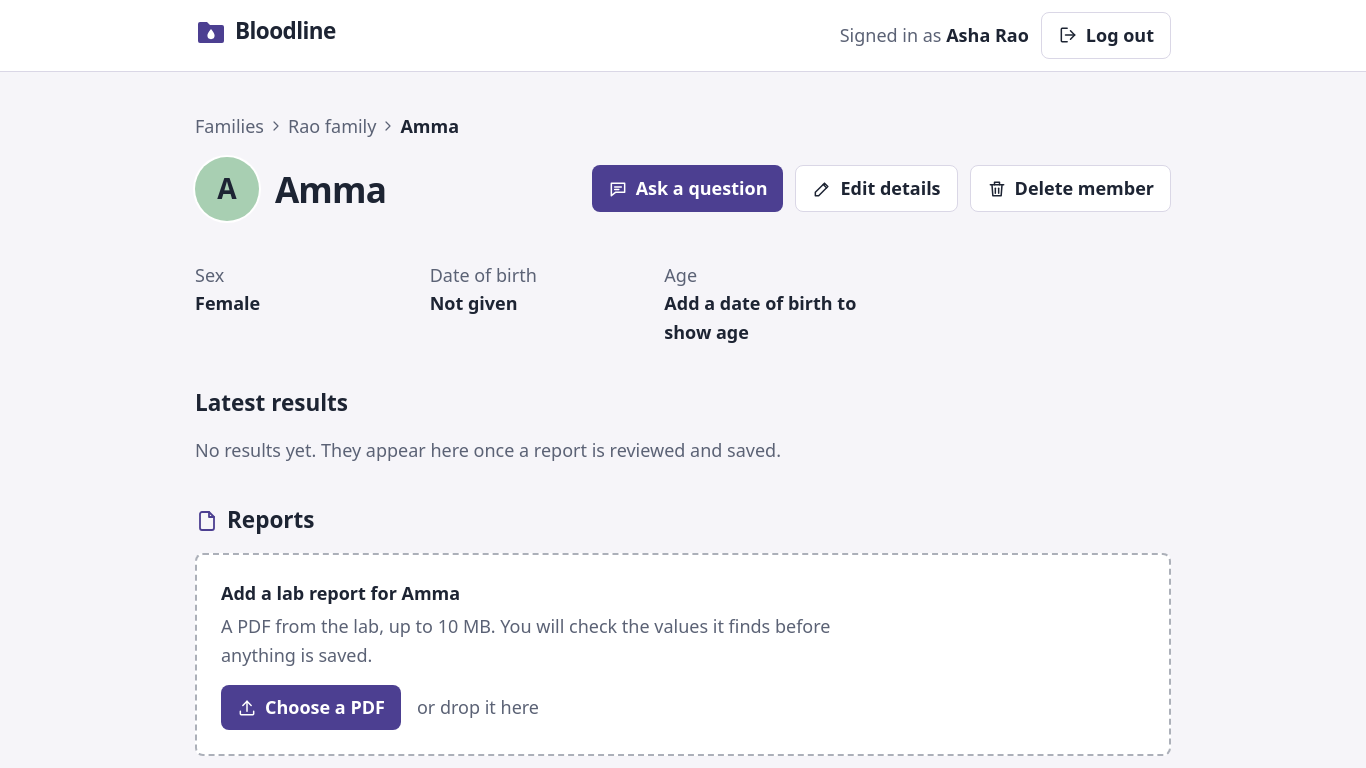
it: asking about one member › opens from the member page and says what the AI is told
Click the link "Ask a question": point(688, 189) [592,165,783,212]
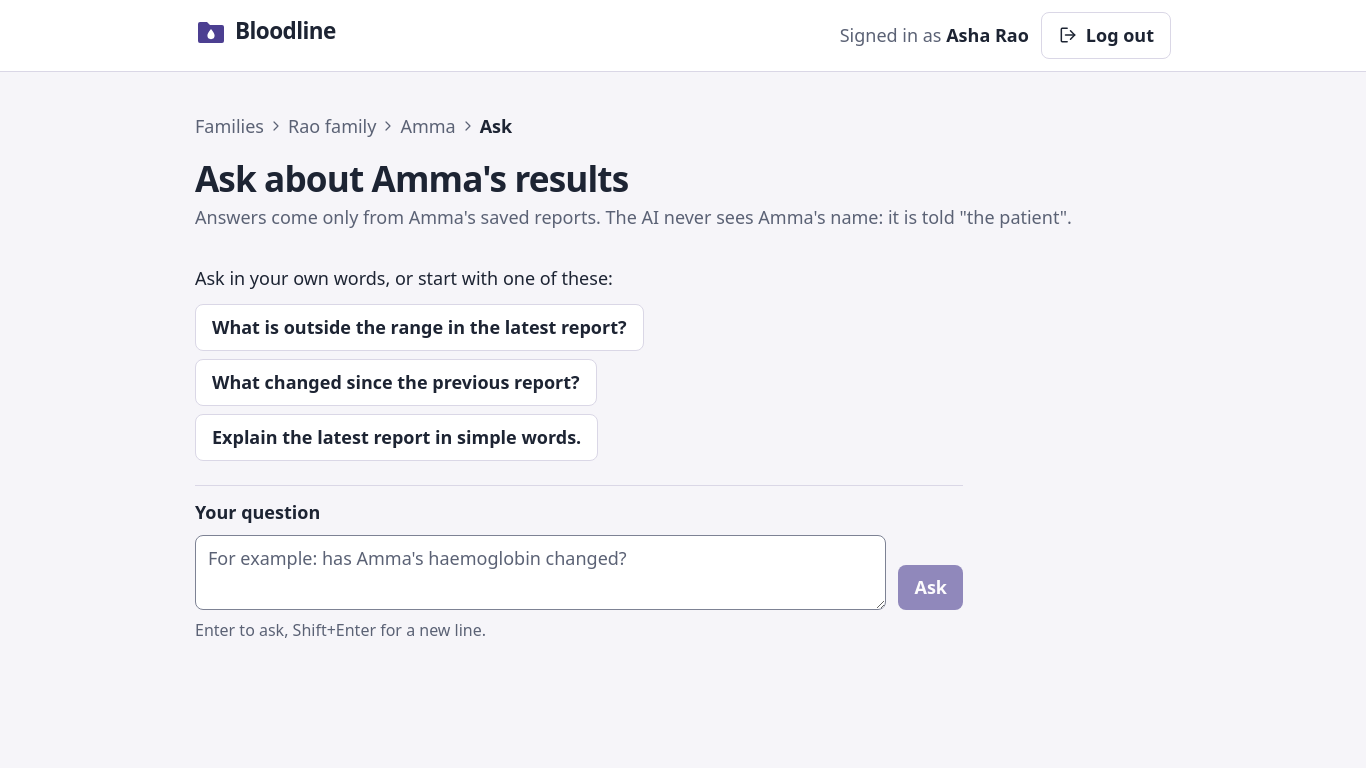
Result: the heading "Ask about Amma's results" is shown at [195,154,628,202]
Result: the text "The AI never sees Amma's name: it is told \"the patient\"" is shown at [195,205,1072,229]
Result: the link "Amma" is shown at [400,112,456,141]
